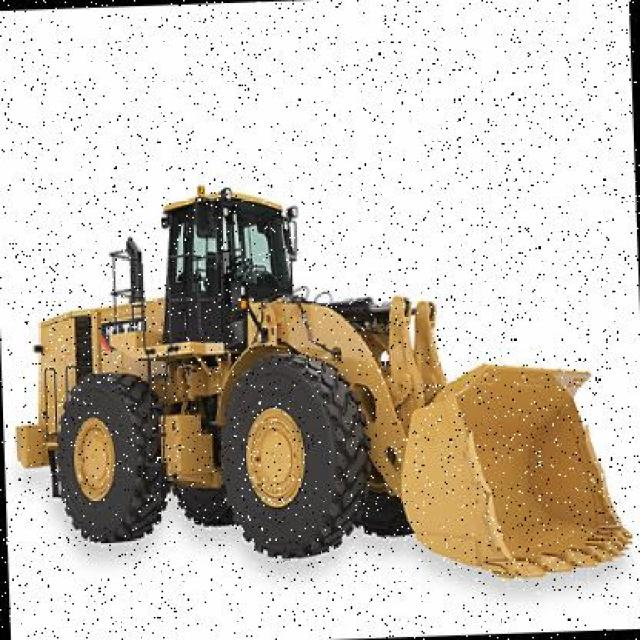buldozerpayloadergrader: (6, 171, 632, 600)
